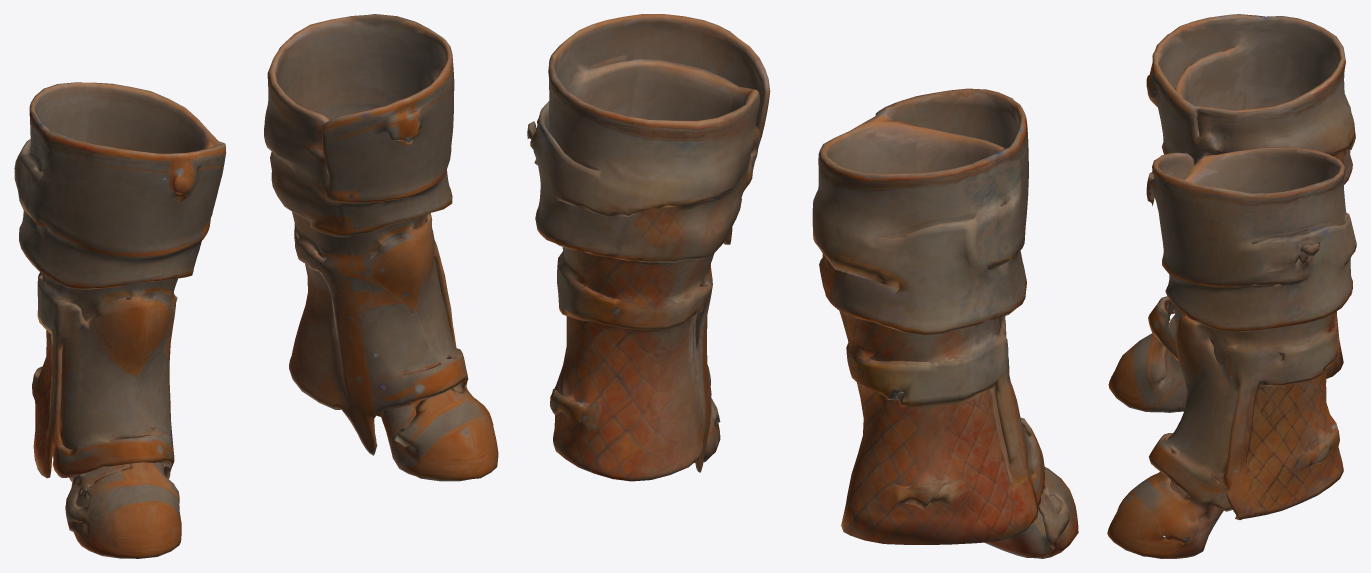
Rendered from Hard Leather Legs.glb.
3 views of the same model, side by side, from view 1: azimuth 30°, elevation 25°; view 2: azimuth 150°, elevation 25°; view 3: azimuth 270°, elevation 25° (orthographic). The views are drawn at different scales.
Parts seen in each view (by area): view 1: file1; view 2: file1; view 3: file1.
Boxes of the visible parts, box(x1,y1,x2,y2) form: file1: box(14, 14, 498, 558); file1: box(527, 14, 1078, 558); file1: box(1107, 14, 1356, 558).
Bounding box in the file's own units: 1.96 × 1.76 × 1.08.
Materials: 1 (1 with a texture image).
